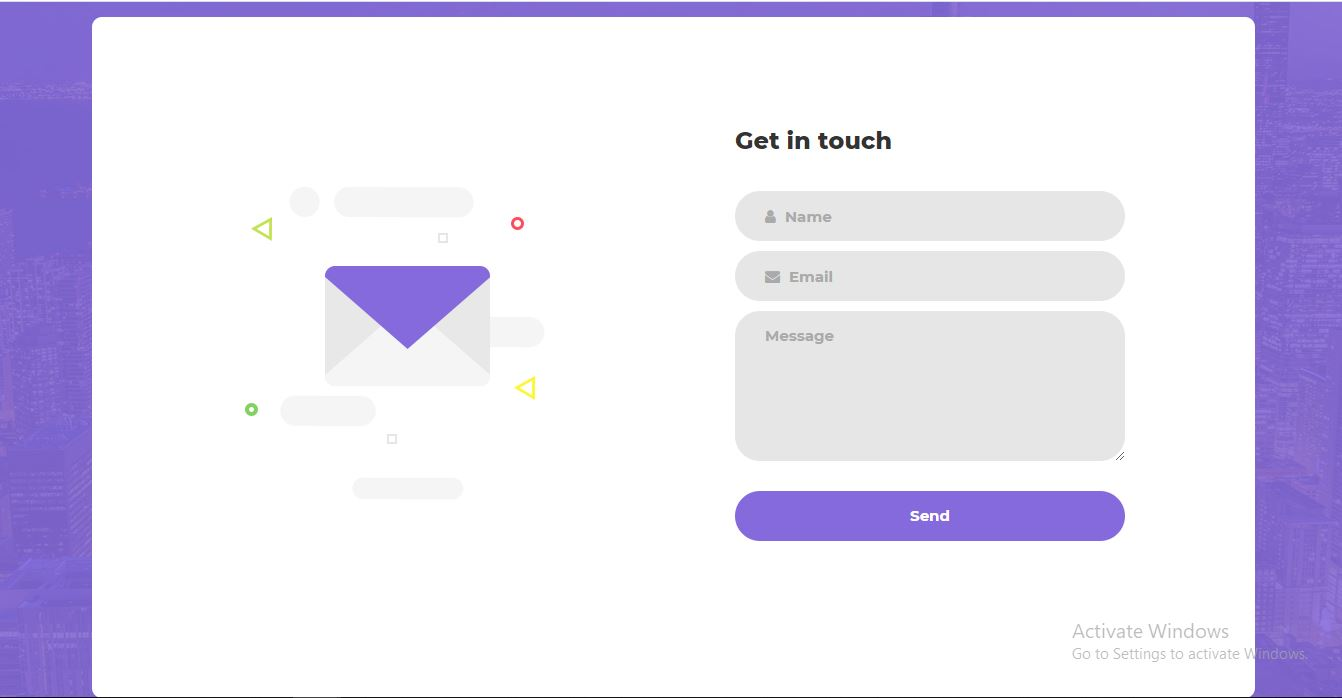Button: (730, 486, 1120, 543)
Image: (200, 137, 600, 517)
Text Field: (728, 307, 1128, 466), (738, 183, 1124, 246), (726, 248, 1126, 307)
